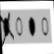correct: (28, 14, 35, 37)
not correct: (0, 10, 13, 45)
